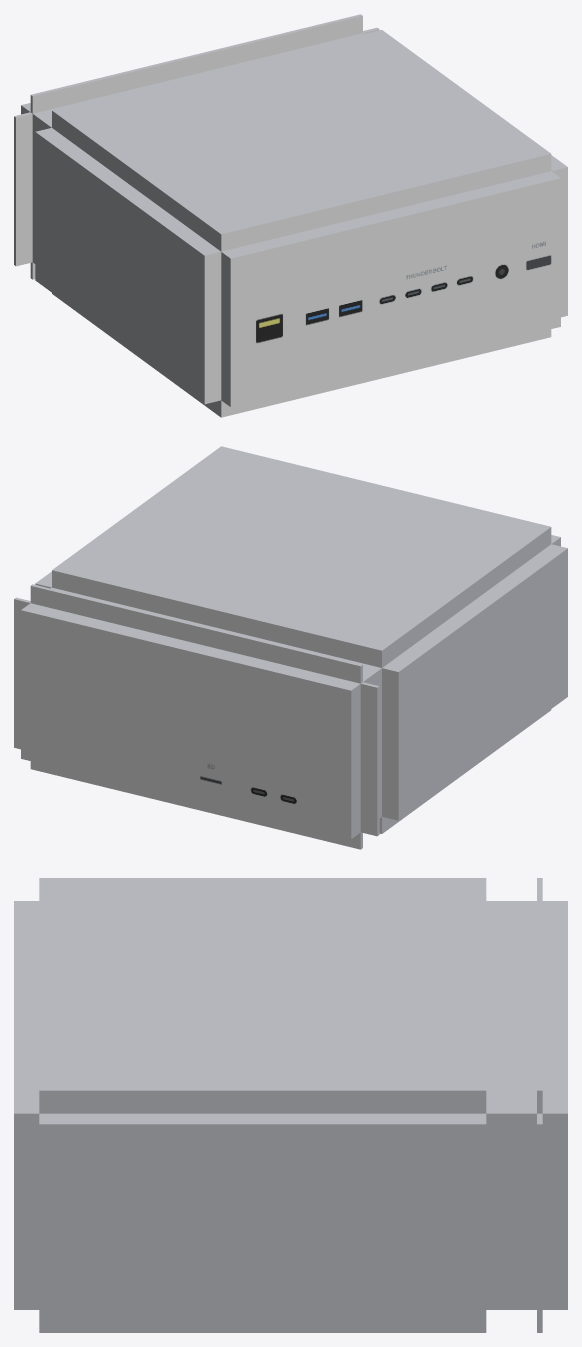
File: apple-mac-studio.glb
3 views of the same model, one above another, from view 1: azimuth 30°, elevation 25°; view 2: azimuth 150°, elevation 25°; view 3: azimuth 270°, elevation 25° (orthographic). The views are drawn at different scales.
Parts seen in each view (by area): view 1: apple-mac-studio-body; view 2: apple-mac-studio-body; view 3: apple-mac-studio-body.
Part boxes in pixels (<box>): apple-mac-studio-body: <box>14,14,567,417</box>; apple-mac-studio-body: <box>14,446,567,849</box>; apple-mac-studio-body: <box>14,878,567,1332</box>.
Bounding box in the file's own units: 0.197 × 0.095 × 0.197.
Materials: 1 (1 with a texture image).
